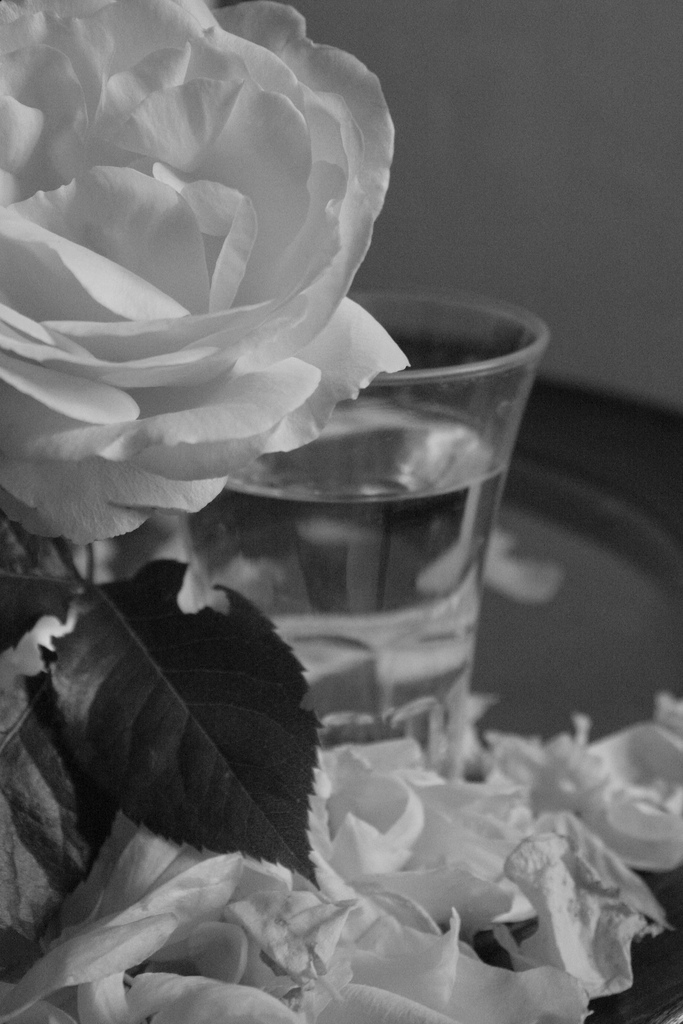glass of water: (164, 284, 547, 779)
